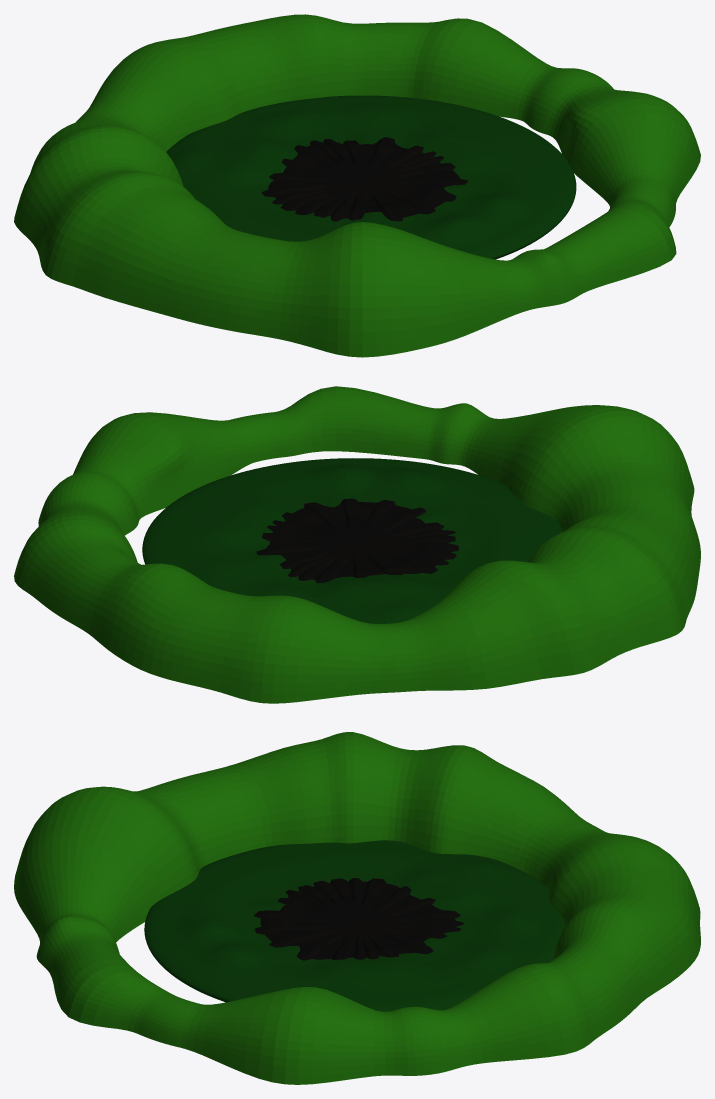
File: HUERTO.obj
3 views of the same model, one above another, from view 1: azimuth 30°, elevation 25°; view 2: azimuth 150°, elevation 25°; view 3: azimuth 270°, elevation 25° (orthographic).
Parts seen in each view (by area): view 1: Circle, Sphere, Sphere.001; view 2: Circle, Sphere, Sphere.001; view 3: Circle, Sphere, Sphere.001.
Part boxes in pixels (box(x1,y1,x2,y2)): Circle: box(14, 14, 700, 357); Sphere: box(166, 95, 576, 259); Sphere.001: box(261, 137, 467, 221); Circle: box(14, 386, 700, 703); Sphere: box(142, 458, 562, 623); Sphere.001: box(256, 498, 458, 583); Circle: box(14, 732, 700, 1084); Sphere: box(144, 840, 565, 1011); Sphere.001: box(254, 878, 463, 960).
Size of the model in its own units: 67.74 by 9.16 by 64.92.
